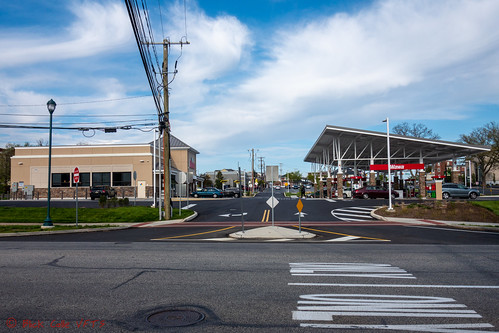building: (311, 129, 481, 199), (10, 133, 202, 192)
sky: (4, 1, 499, 139)
street: (1, 237, 499, 333), (186, 193, 385, 242)
